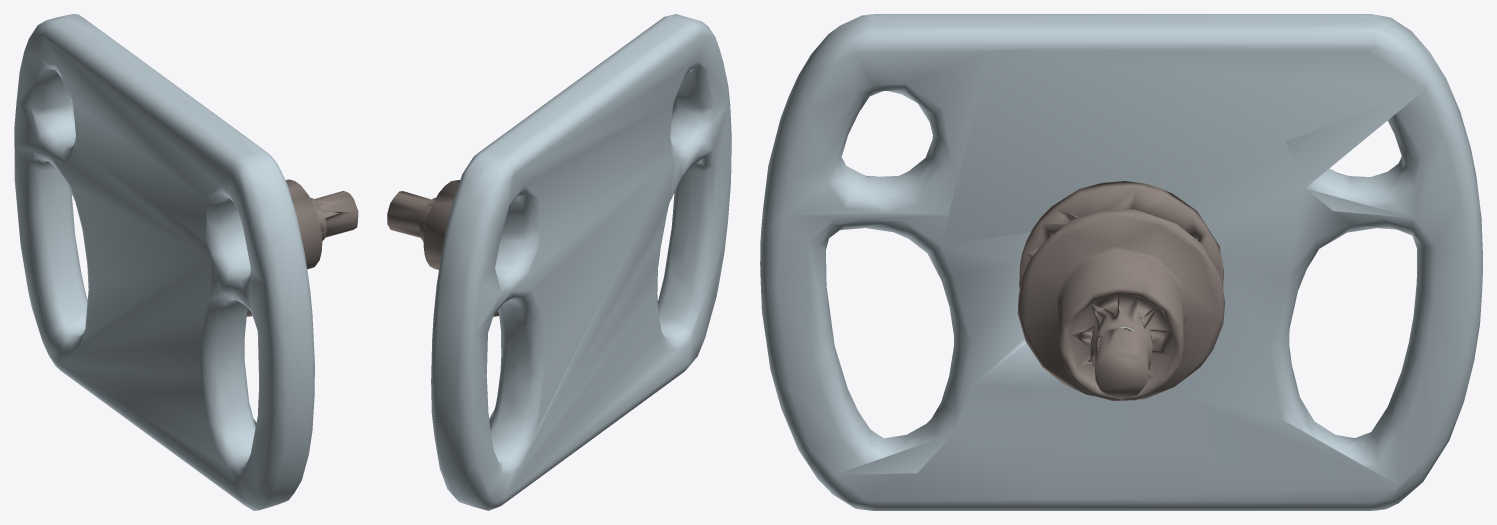
File: steering.glb
3 renders of one model, left to right at view 1: azimuth 30°, elevation 25°; view 2: azimuth 150°, elevation 25°; view 3: azimuth 270°, elevation 25°, orthographic. The views are drawn at different scales.
Parts seen in each view (by area): view 1: FSFEUP03_sim.001; view 2: FSFEUP03_sim.001; view 3: FSFEUP03_sim.001.
Boxes of the visible parts, box(x1,y1,x2,y2) form: FSFEUP03_sim.001: box(14, 14, 358, 510); FSFEUP03_sim.001: box(387, 14, 731, 510); FSFEUP03_sim.001: box(760, 14, 1482, 510).
Size of the model in its own units: 0.1001 by 0.1602 by 0.22.
